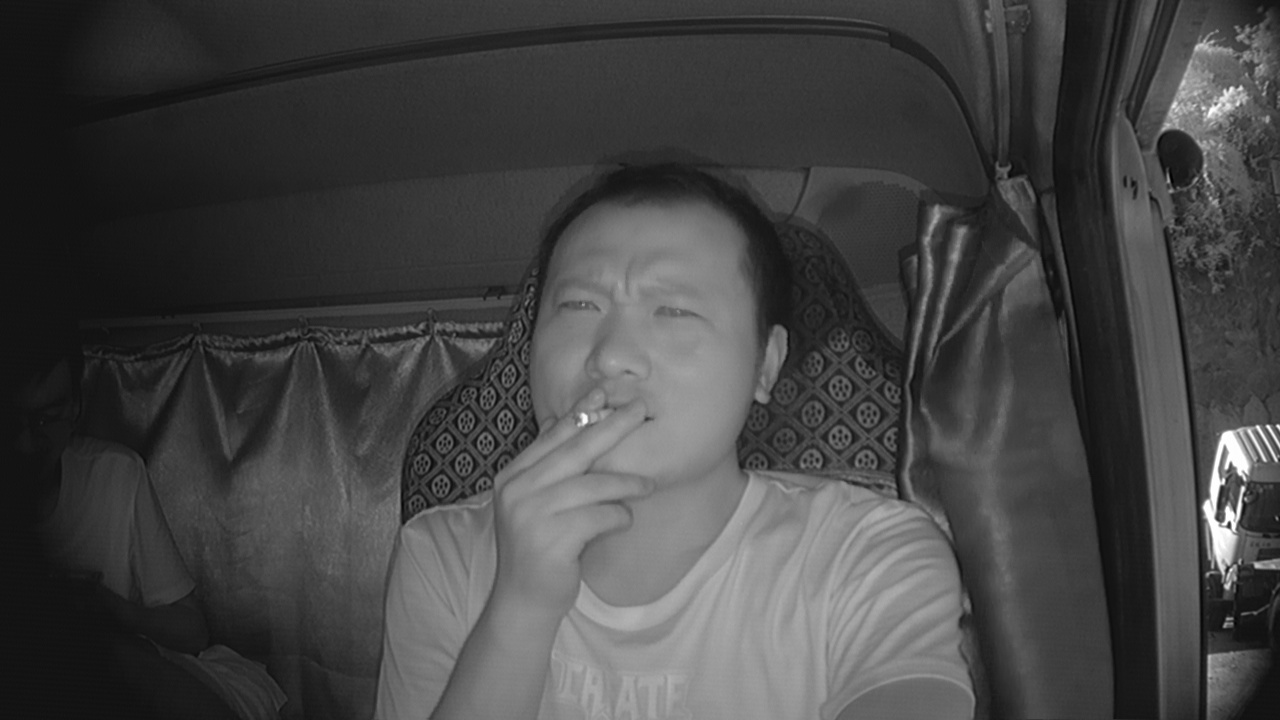hand: (499, 392, 663, 577)
